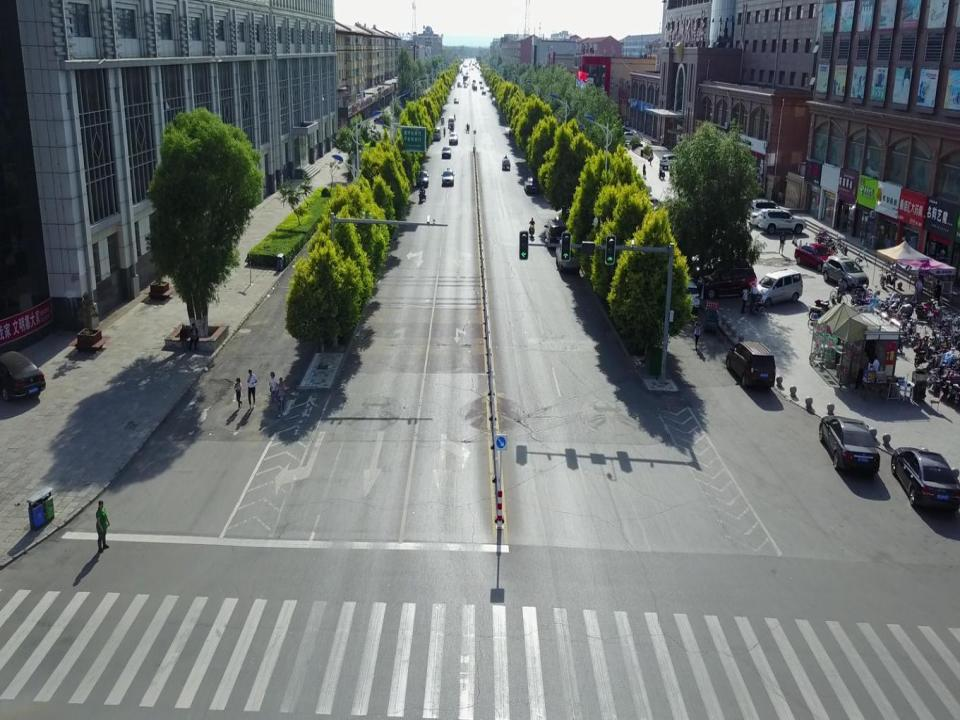car: (891, 447, 960, 510), (819, 415, 880, 473), (0, 351, 46, 402), (696, 262, 757, 299), (690, 249, 750, 280), (822, 256, 869, 291), (794, 244, 839, 272), (674, 274, 700, 311), (555, 239, 581, 272), (750, 208, 790, 228), (659, 154, 682, 170), (524, 176, 539, 194), (441, 168, 455, 187), (416, 170, 429, 186), (618, 131, 638, 141), (610, 128, 630, 136), (448, 132, 459, 145), (441, 146, 452, 158)
van: (726, 340, 775, 388), (750, 269, 802, 308), (758, 209, 806, 234), (745, 200, 789, 219), (544, 220, 568, 250), (433, 126, 441, 140), (447, 117, 454, 129)
